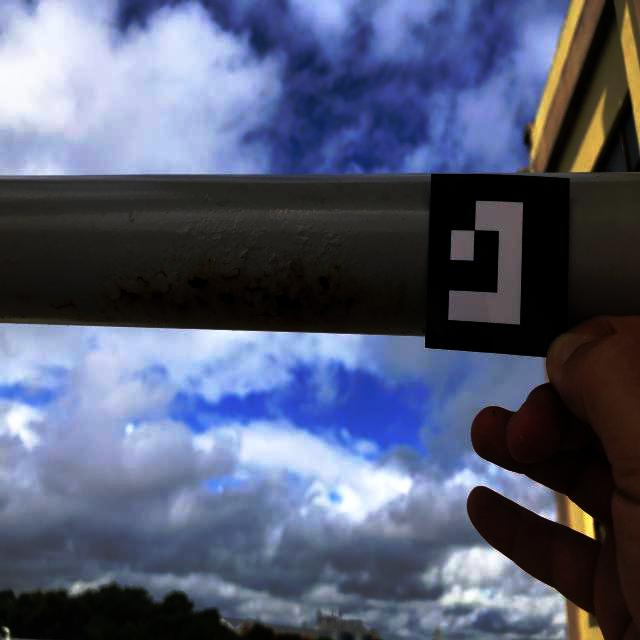Corrosion: (103, 260, 367, 331)
